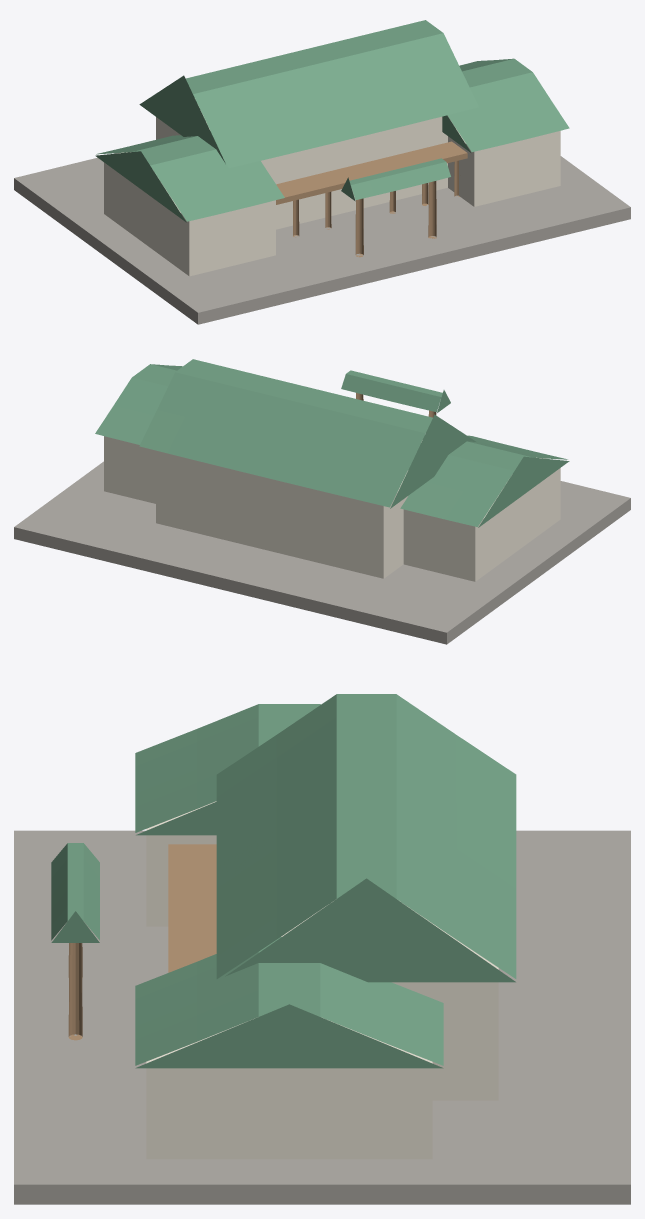
File: lm_98_trung_tam_du_khach_va_bao_tang_thien_nhien_vqg_bidoup_nui_ba.glb
3 renders of one model, top to bottom at view 1: azimuth 30°, elevation 25°; view 2: azimuth 150°, elevation 25°; view 3: azimuth 270°, elevation 25°, orthographic. The views are drawn at different scales.
Parts seen in each view (by area): view 1: lm_98_trung_tam_du_khach_va_bao_tang_thien_nhien_vqg_bidoup_; view 2: lm_98_trung_tam_du_khach_va_bao_tang_thien_nhien_vqg_bidoup_; view 3: lm_98_trung_tam_du_khach_va_bao_tang_thien_nhien_vqg_bidoup_.
Boxes of the visible parts, x1,y1,x2,y2 form: lm_98_trung_tam_du_khach_va_bao_tang_thien_nhien_vqg_bidoup_: [14, 20, 630, 324]; lm_98_trung_tam_du_khach_va_bao_tang_thien_nhien_vqg_bidoup_: [14, 359, 630, 644]; lm_98_trung_tam_du_khach_va_bao_tang_thien_nhien_vqg_bidoup_: [14, 694, 630, 1204].
Bounding box in the file's own units: 38 × 12.6 × 28.
